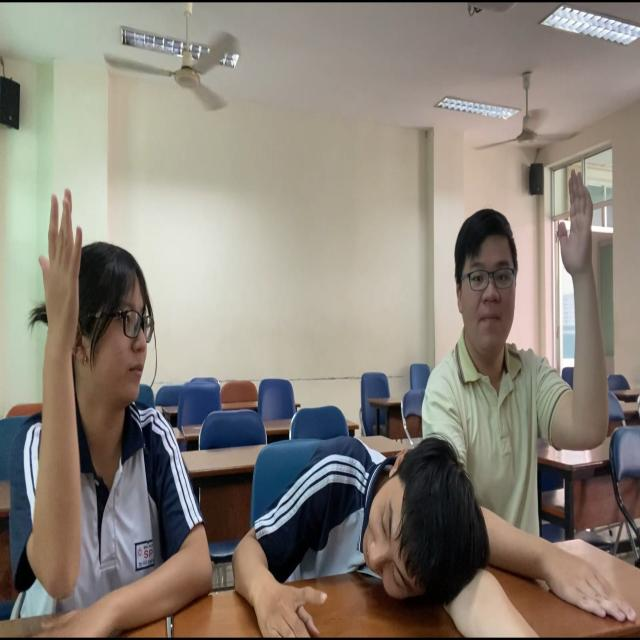raise_hand: (437, 166, 640, 617), (4, 186, 166, 629)
sleep: (226, 437, 509, 640)
